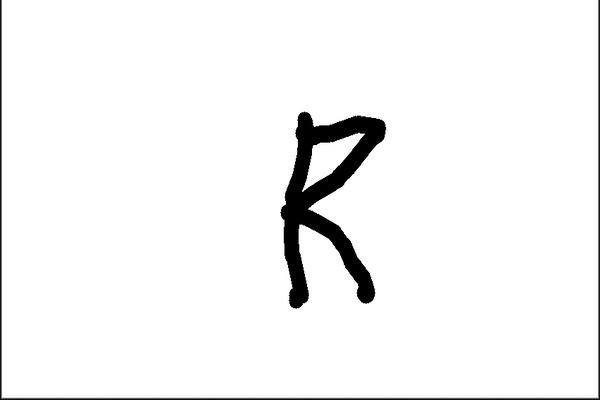R: (264, 94, 397, 315)
